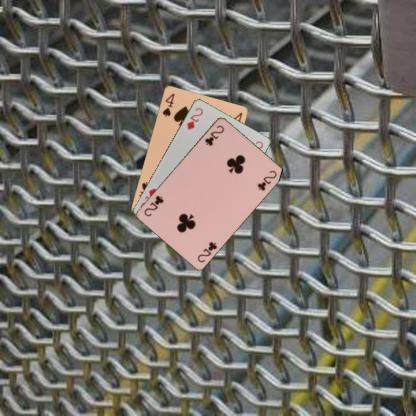2c: (202, 122, 225, 147), (195, 238, 218, 263)
2d: (184, 105, 204, 131)
4s: (160, 90, 176, 118)
